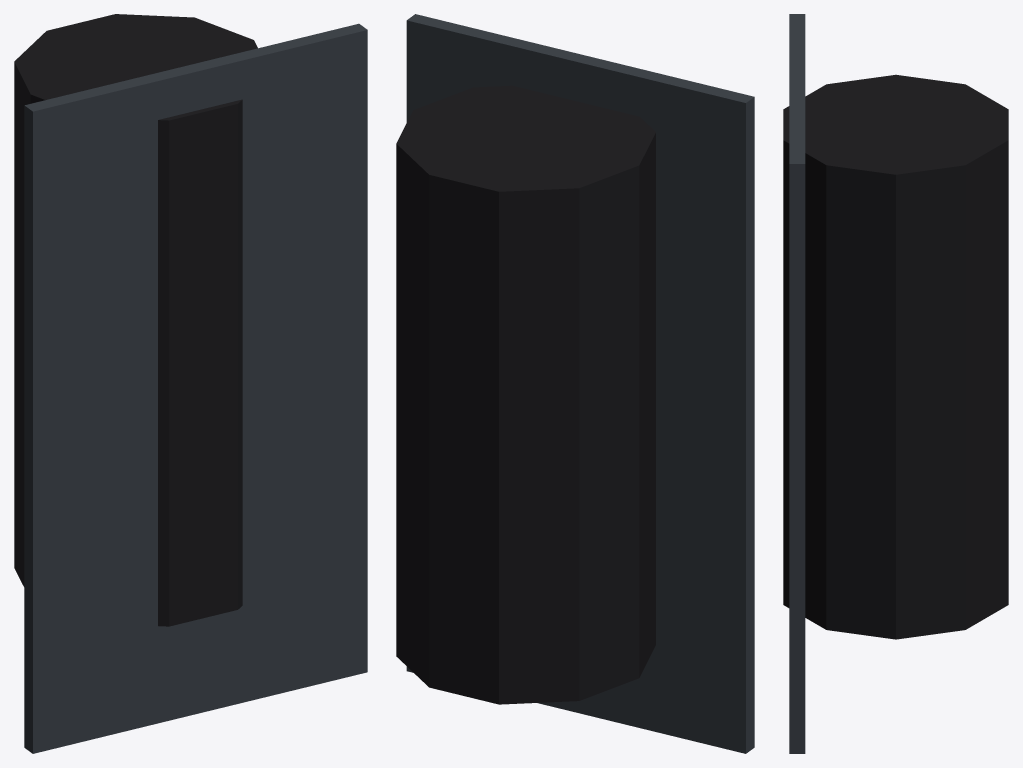
File: quay-fender.glb
The picture shows the model from 3 angles, left to right: view 1: azimuth 30°, elevation 25°; view 2: azimuth 150°, elevation 25°; view 3: azimuth 270°, elevation 25°; orthographic projection. The views are drawn at different scales.
Visible parts, largest first — view 1: fender; view 2: fender; view 3: fender.
Boxes of the visible parts, bbox=[...] form: fender: bbox=[14, 14, 367, 753]; fender: bbox=[396, 14, 754, 753]; fender: bbox=[783, 14, 1008, 753].
Bounding box in the file's own units: 0.9001 × 1.65 × 0.5707.
Materials: 1 (1 with a texture image).
